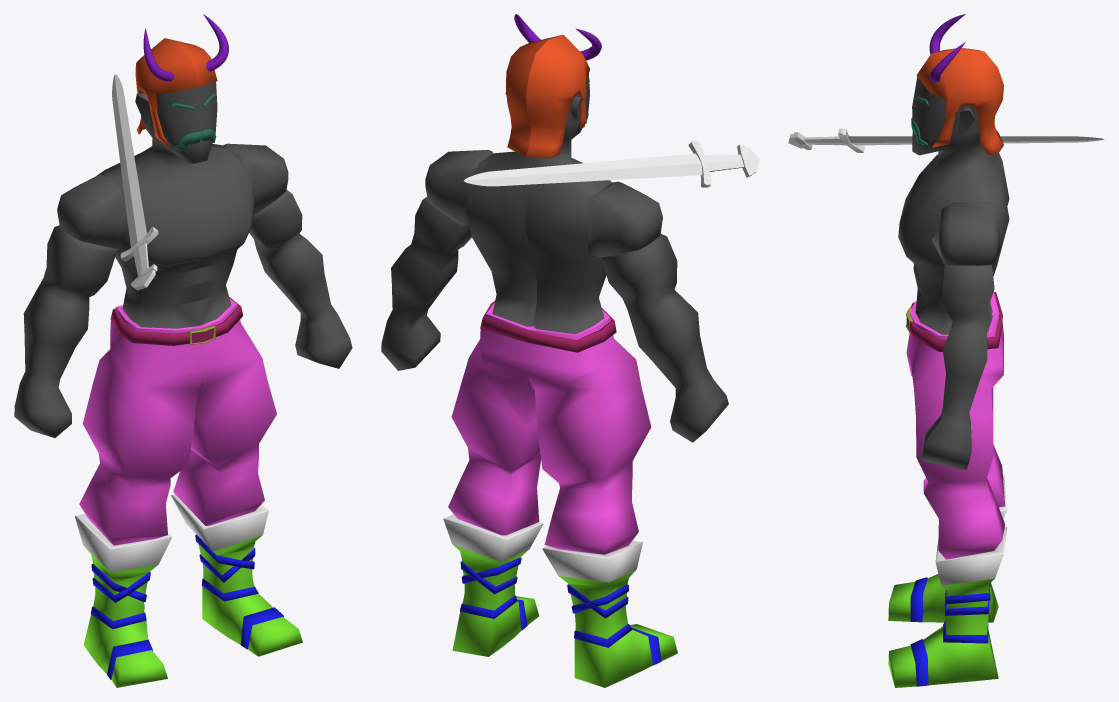
File: siegfried_counter_pose.glb
The picture shows the model from 3 angles, left to right: view 1: azimuth 30°, elevation 25°; view 2: azimuth 150°, elevation 25°; view 3: azimuth 270°, elevation 25°; orthographic projection. The views are drawn at different scales.
Visible parts, largest first — view 1: siegfried.export, longsword.001; view 2: siegfried.export, longsword.001; view 3: siegfried.export, longsword.001.
Boxes of the visible parts, x1,y1,x2,y2 form: siegfried.export: [14, 14, 352, 687]; longsword.001: [112, 74, 158, 290]; siegfried.export: [381, 14, 728, 687]; longsword.001: [464, 140, 759, 187]; siegfried.export: [888, 14, 1009, 687]; longsword.001: [788, 128, 1104, 152].
Size of the model in its own units: 1 by 1.88 by 0.8728.
